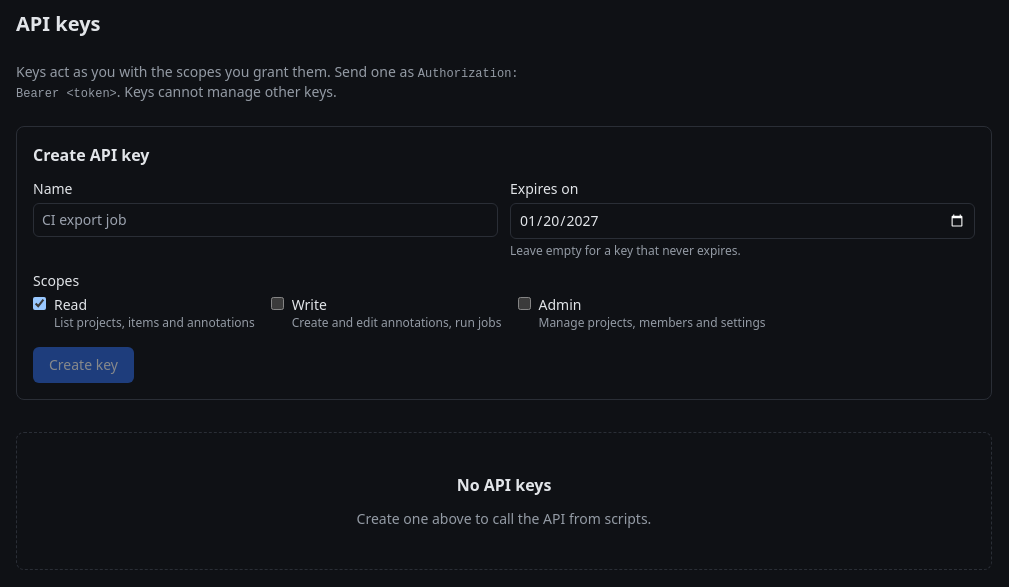
ApiKeysPage › refuses to submit without a scope
The width and height of the screenshot is (1009, 587).
Expected: the text "No API keys" is shown, x1=457 y1=473 x2=551 y2=497
Type "Nope" into the field labelled "Name".
click(266, 220); type("Nope")  # box x1=33 y1=203 x2=498 y2=237
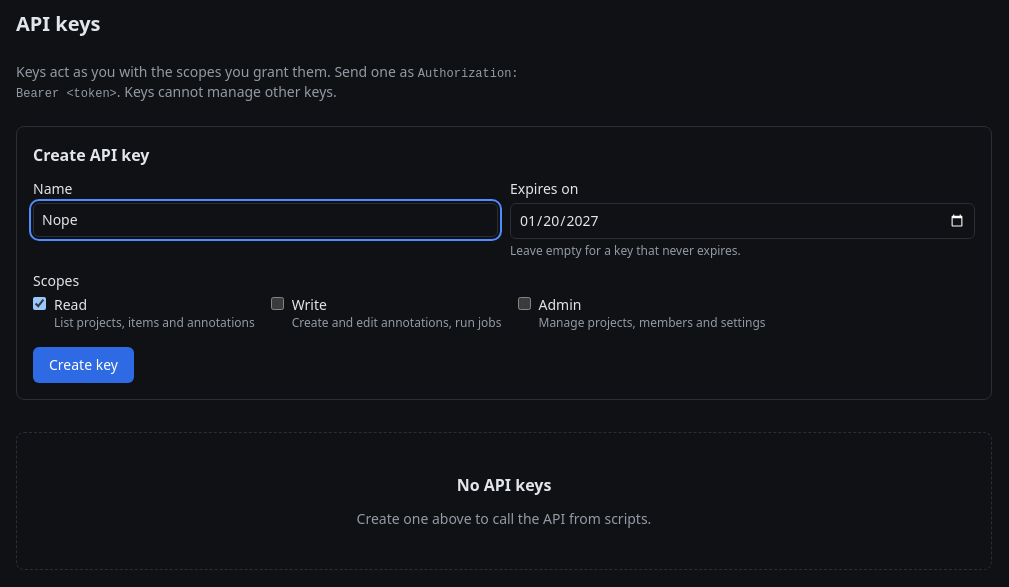
Click the checkbox labelled "Read List projects, items and annotations".
click(40, 304)  # box x1=33 y1=297 x2=46 y2=310
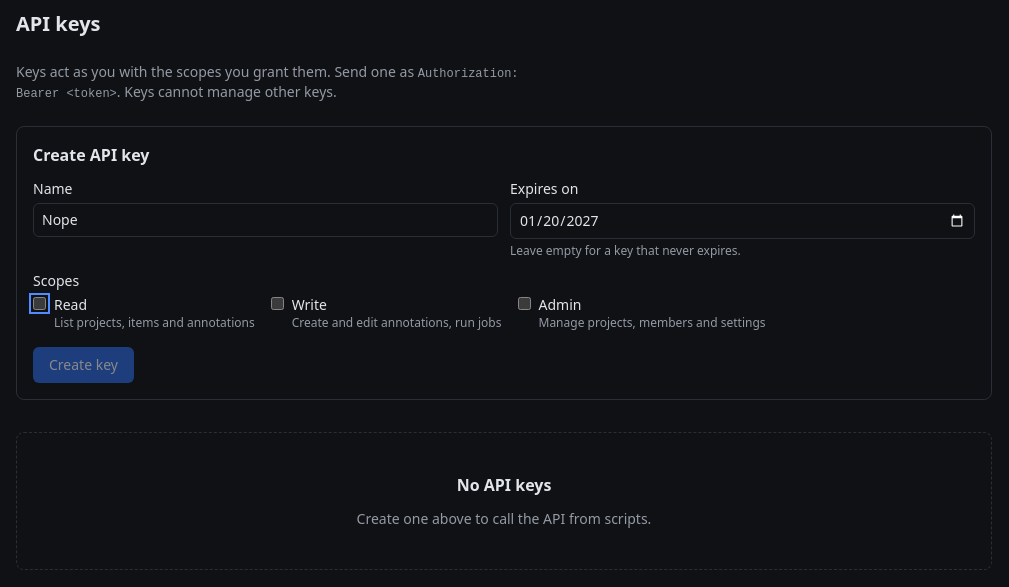
Now the button "Create key" is disabled, box x1=33 y1=347 x2=134 y2=383
